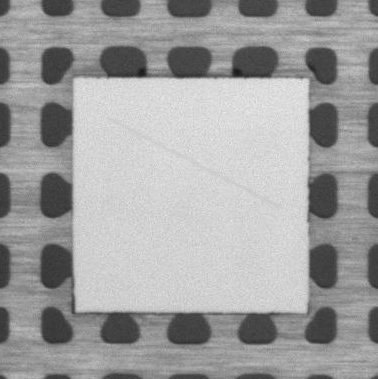DIE_CRACK: (108, 118, 279, 208)
